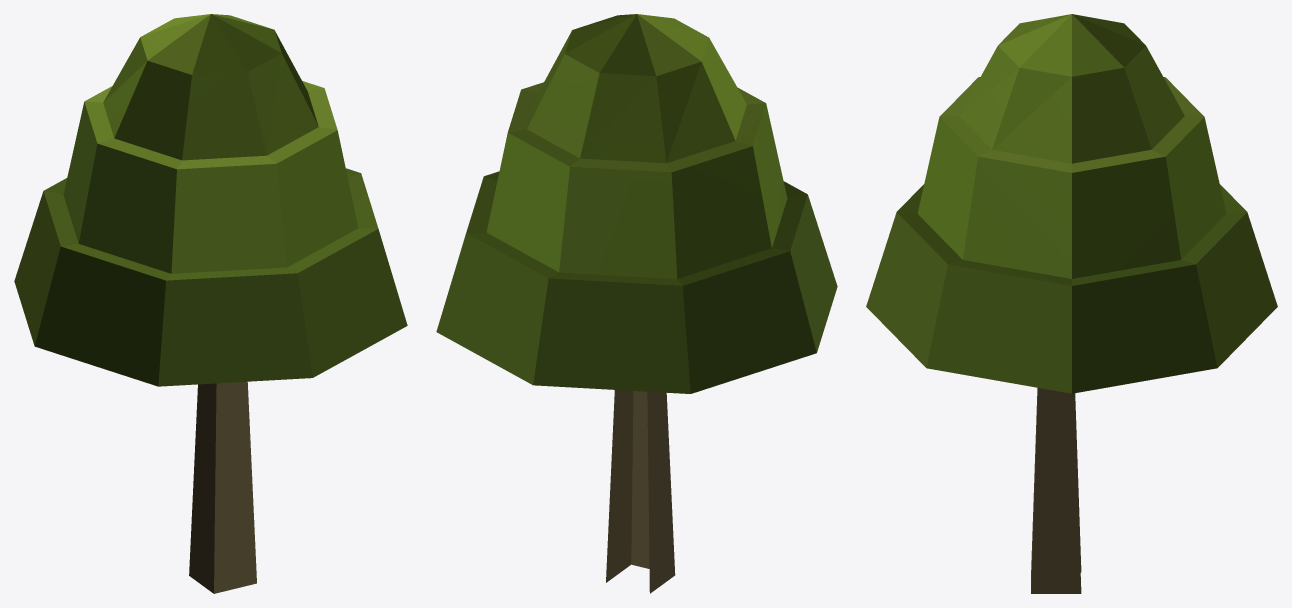
File: forest13.fbx
3 renders of one model, left to right at view 1: azimuth 30°, elevation 25°; view 2: azimuth 150°, elevation 25°; view 3: azimuth 270°, elevation 25°, orthographic. The views are drawn at different scales.
Parts seen in each view (by area): view 1: forest13; view 2: forest13; view 3: forest13.
Boxes of the visible parts, box(x1,y1,x2,y2) form: forest13: box(14, 14, 407, 593); forest13: box(436, 14, 837, 593); forest13: box(866, 14, 1277, 593).
Bounding box in the file's own units: 1.27 × 1.93 × 1.27.
Materials: 1 (1 with a texture image).
